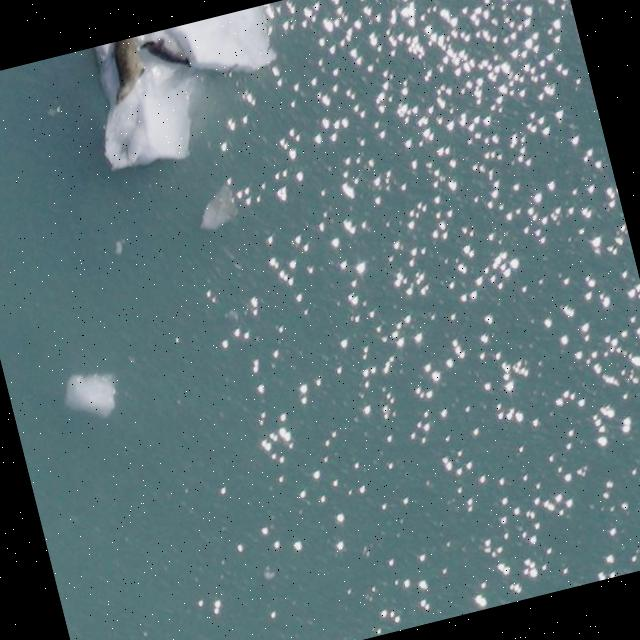seal: (108, 36, 146, 104), (133, 31, 192, 68)
